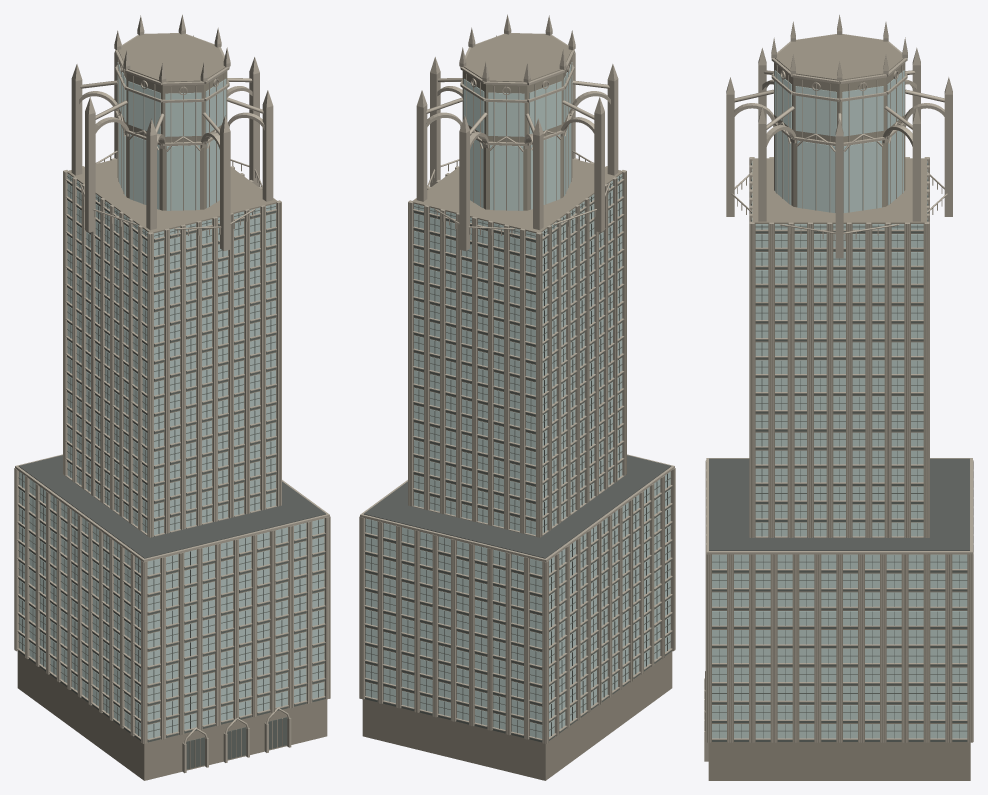
The model's file is tribune_tower.glb.
3 views of the same model, side by side, from view 1: azimuth 30°, elevation 25°; view 2: azimuth 150°, elevation 25°; view 3: azimuth 270°, elevation 25° (orthographic). The views are drawn at different scales.
Visible parts, largest first — view 1: Raised limestone tracery, Night warm windows, Indiana limestone, Recessed bronze spandrels, Dark terrace roofing; view 2: Raised limestone tracery, Night warm windows, Indiana limestone, Recessed bronze spandrels, Dark terrace roofing; view 3: Night warm windows, Indiana limestone, Raised limestone tracery, Recessed bronze spandrels, Dark terrace roofing.
Part boxes in pixels (bbox=[...]): Raised limestone tracery: bbox=[14, 14, 330, 773]; Night warm windows: bbox=[19, 62, 324, 738]; Indiana limestone: bbox=[14, 33, 329, 780]; Recessed bronze spandrels: bbox=[18, 176, 324, 769]; Dark terrace roofing: bbox=[18, 455, 325, 558]; Raised limestone tracery: bbox=[359, 14, 675, 743]; Night warm windows: bbox=[365, 62, 670, 738]; Indiana limestone: bbox=[360, 33, 675, 780]; Recessed bronze spandrels: bbox=[365, 176, 671, 742]; Dark terrace roofing: bbox=[364, 455, 671, 558]; Night warm windows: bbox=[712, 70, 967, 738]; Indiana limestone: bbox=[705, 34, 973, 780]; Raised limestone tracery: bbox=[704, 15, 973, 761]; Recessed bronze spandrels: bbox=[712, 163, 967, 741]; Dark terrace roofing: bbox=[709, 458, 969, 550].
Bounding box in the file's own units: 41.12 × 141 × 49.36.
